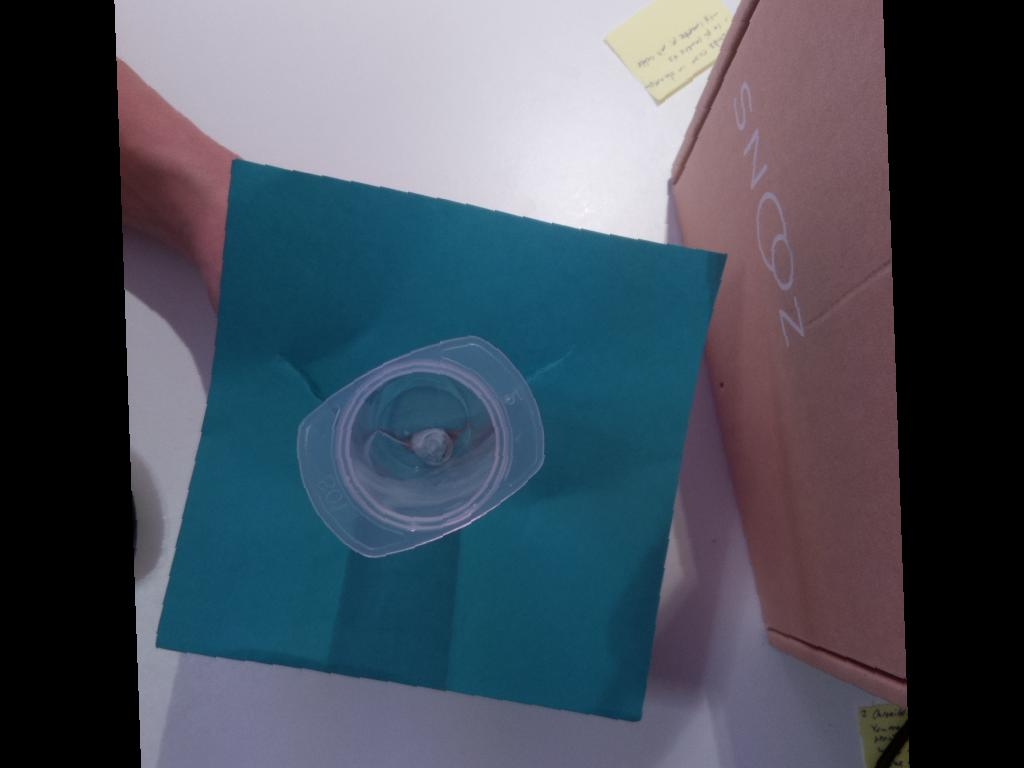clean: (286, 329, 555, 562)
